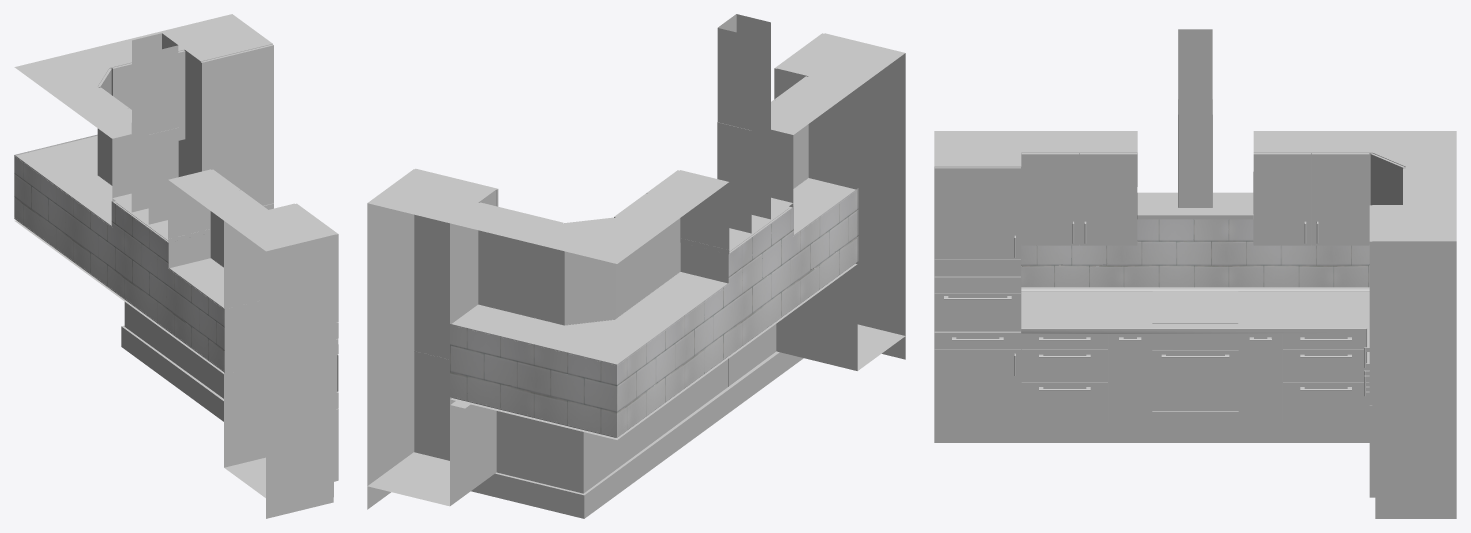
File: kitchen.FBX
3 views of the same model, side by side, from view 1: azimuth 30°, elevation 25°; view 2: azimuth 150°, elevation 25°; view 3: azimuth 270°, elevation 25° (orthographic). The views are drawn at different scales.
Visible parts, largest first — view 1: kitchen, kitchen_tile; view 2: kitchen, kitchen_tile; view 3: kitchen, kitchen_tile.
Boxes of the visible parts, bbox=[...] form: kitchen: bbox=[14, 14, 338, 518]; kitchen_tile: bbox=[14, 134, 224, 372]; kitchen: bbox=[367, 14, 905, 518]; kitchen_tile: bbox=[450, 188, 858, 437]; kitchen: bbox=[934, 29, 1456, 518]; kitchen_tile: bbox=[1021, 219, 1369, 287].
Bounding box in the file's own units: 180 × 300 × 360.
Materials: 1 (1 with a texture image).
